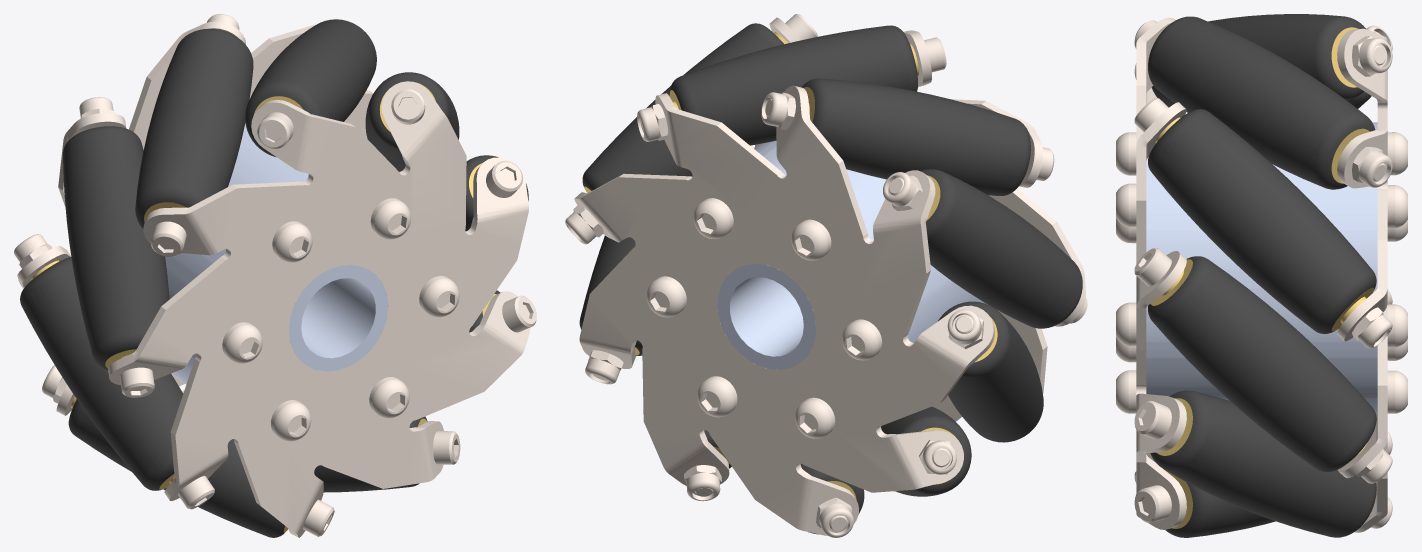
3 views of the same model, side by side, from view 1: azimuth 30°, elevation 25°; view 2: azimuth 150°, elevation 25°; view 3: azimuth 270°, elevation 25° (orthographic). The views are drawn at different scales.
Parts seen in each view (by area): view 1: node3, node0, node1, node2; view 2: node3, node0, node1, node2; view 3: node0, node3, node1, node2.
Part boxes in pixels (bbox=[...]): node3: bbox=[14, 14, 536, 537]; node0: bbox=[20, 19, 528, 537]; node1: bbox=[165, 123, 388, 384]; node2: bbox=[31, 82, 496, 532]; node3: bbox=[565, 14, 1087, 537]; node0: bbox=[579, 23, 1082, 534]; node1: bbox=[717, 140, 987, 369]; node2: bbox=[584, 32, 997, 499]; node0: bbox=[1148, 14, 1376, 537]; node3: bbox=[1116, 17, 1407, 532]; node1: bbox=[1146, 122, 1377, 414]; node2: bbox=[1150, 27, 1374, 528].
Size of the model in its own units: 0.1042 by 0.1042 by 0.058.
